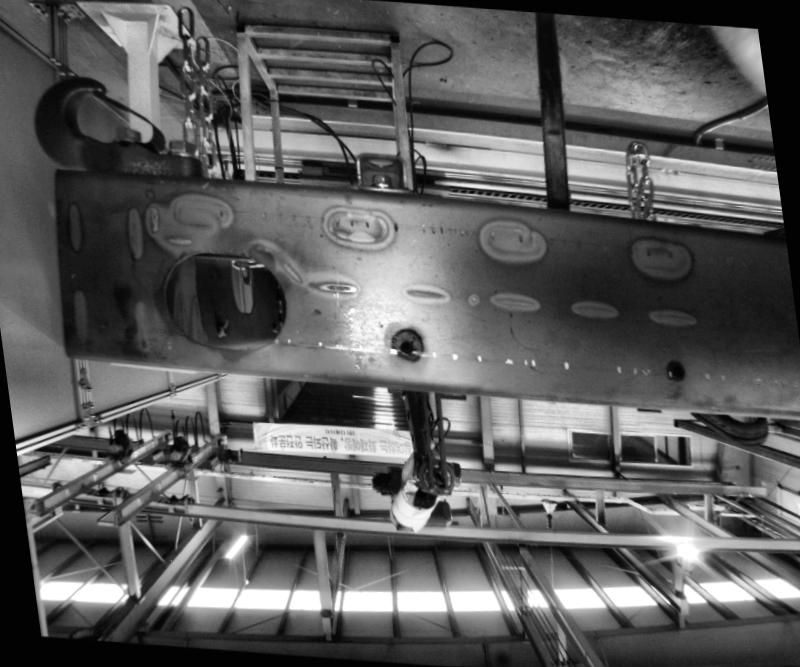bolt: (366, 171, 394, 189)
bracket: (330, 139, 428, 193)
hole: (142, 246, 294, 356), (395, 336, 416, 356)
